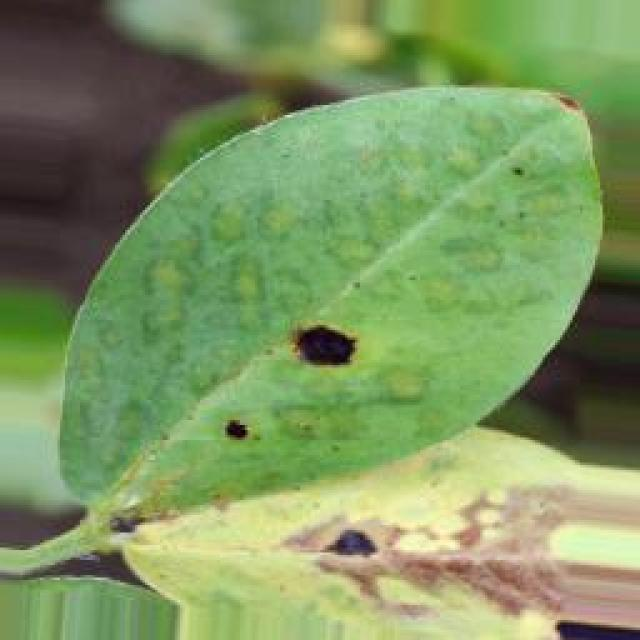Yellowish: (280, 493, 601, 621), (489, 94, 598, 211), (278, 308, 400, 411), (187, 394, 271, 476)
